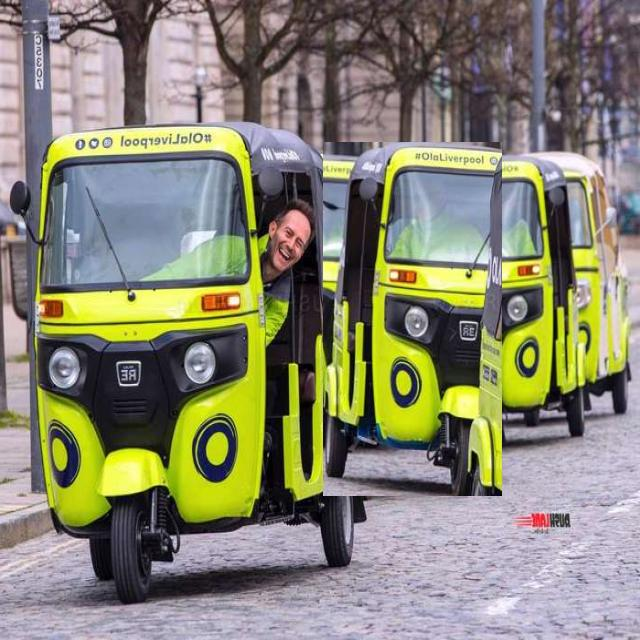autorickshaw: (35, 122, 362, 601), (323, 143, 501, 496), (470, 157, 585, 435), (539, 153, 631, 413)
